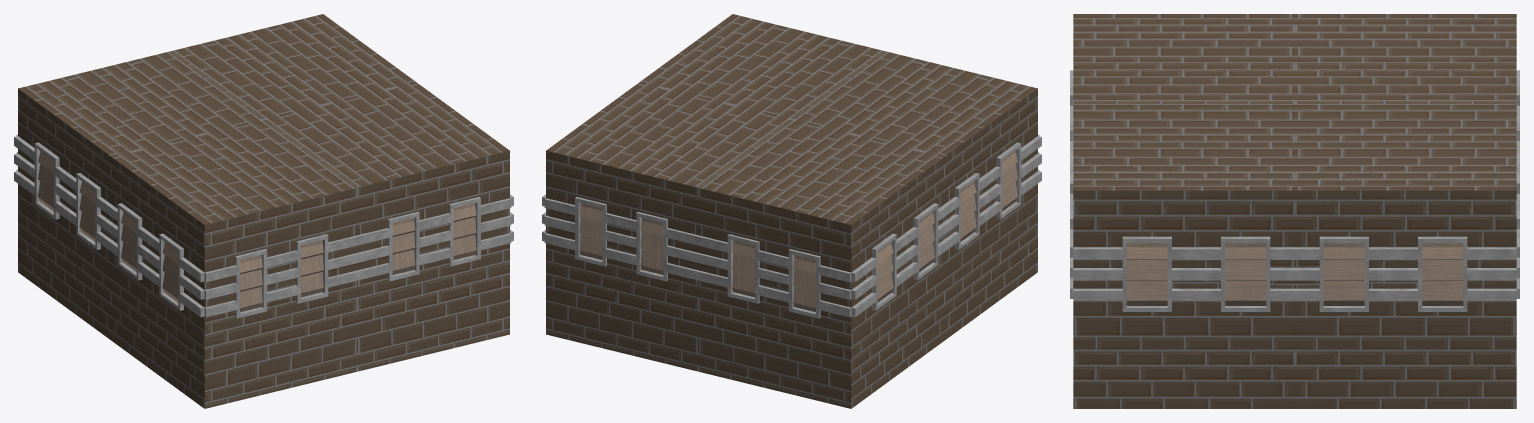
Rendered from middle.fbx.
3 views of the same model, side by side, from view 1: azimuth 30°, elevation 25°; view 2: azimuth 150°, elevation 25°; view 3: azimuth 270°, elevation 25° (orthographic). The views are drawn at different scales.
Parts seen in each view (by area): view 1: middle; view 2: middle; view 3: middle.
Part boxes in pixels (x1=…): middle: x1=14, y1=14, x2=513, y2=408; middle: x1=542, y1=14, x2=1041, y2=408; middle: x1=1070, y1=14, x2=1519, y2=408.
Bounding box in the file's own units: 535 × 300 × 561.
